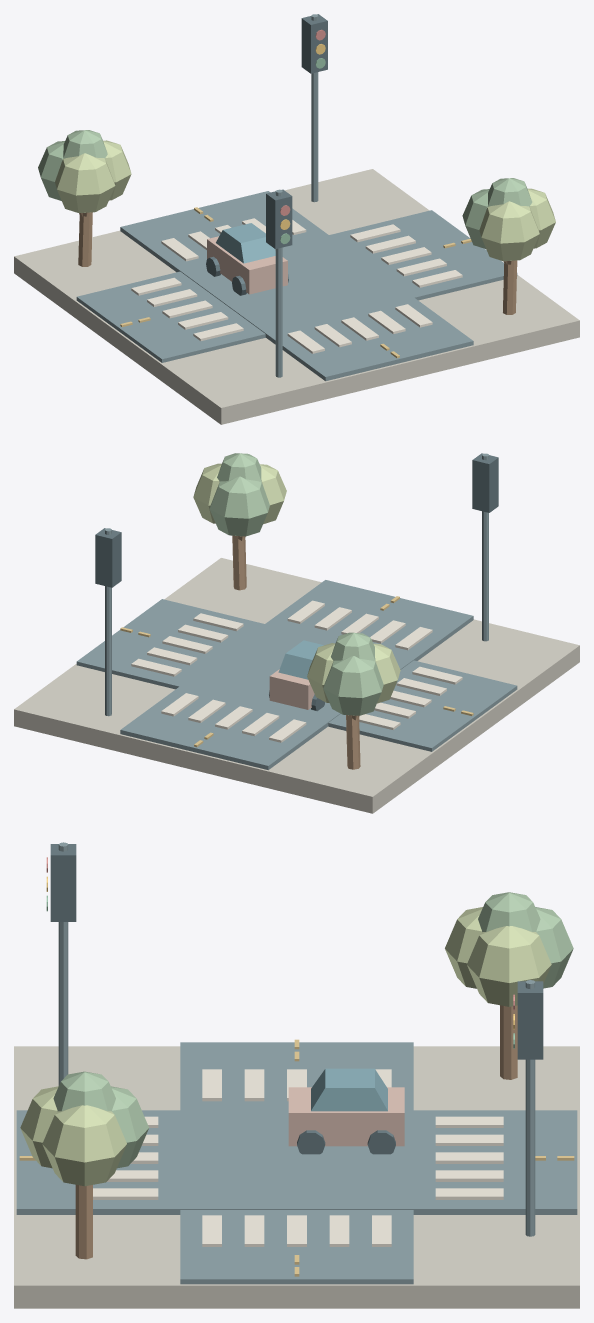
Rendered from dot-tpl-road.glb.
3 views of the same model, one above another, from view 1: azimuth 30°, elevation 25°; view 2: azimuth 150°, elevation 25°; view 3: azimuth 270°, elevation 25° (orthographic). The views are drawn at different scales.
Parts seen in each view (by area): view 1: paving; view 2: paving; view 3: paving.
Boxes of the visible parts, <box> form: paving: <box>14,14,579,424</box>; paving: <box>14,453,579,813</box>; paving: <box>14,842,579,1308</box>.
Bounding box in the file's own units: 4 × 2.15 × 4.
Materials: 1 (1 with a texture image).
